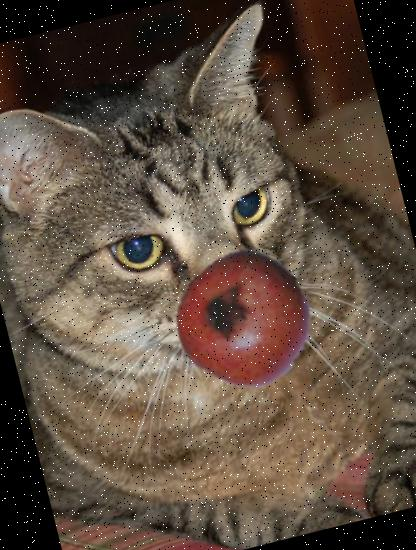Pomegranate: (165, 240, 326, 401)
